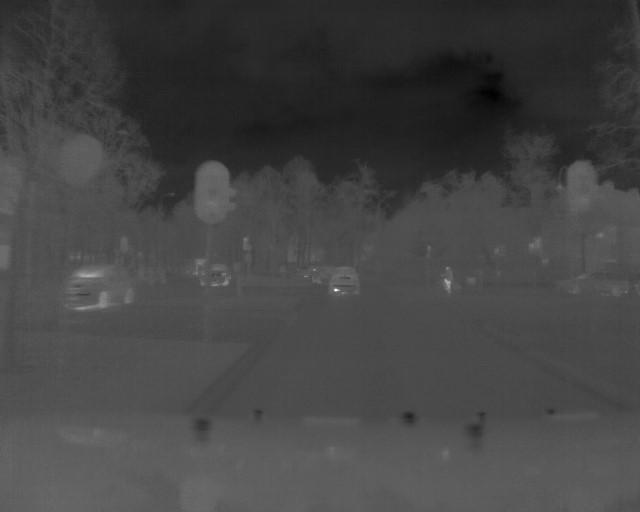car: (62, 261, 138, 310), (560, 269, 630, 299), (327, 262, 363, 299), (195, 256, 235, 288)
person: (438, 262, 456, 296)
